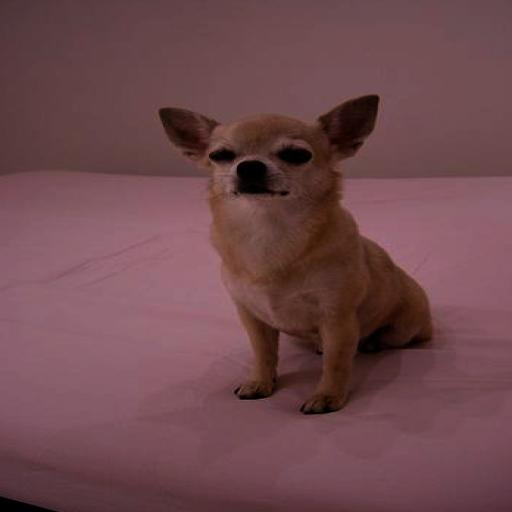dog_face: (163, 81, 373, 210)
